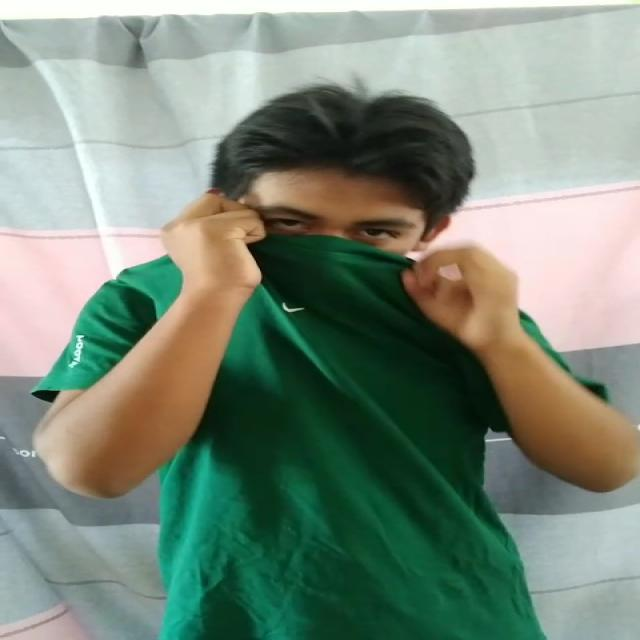8_ropa_rostro: (154, 220, 482, 334)
